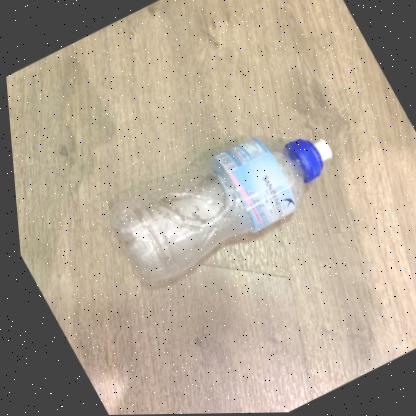Plastic: (107, 137, 329, 281)
